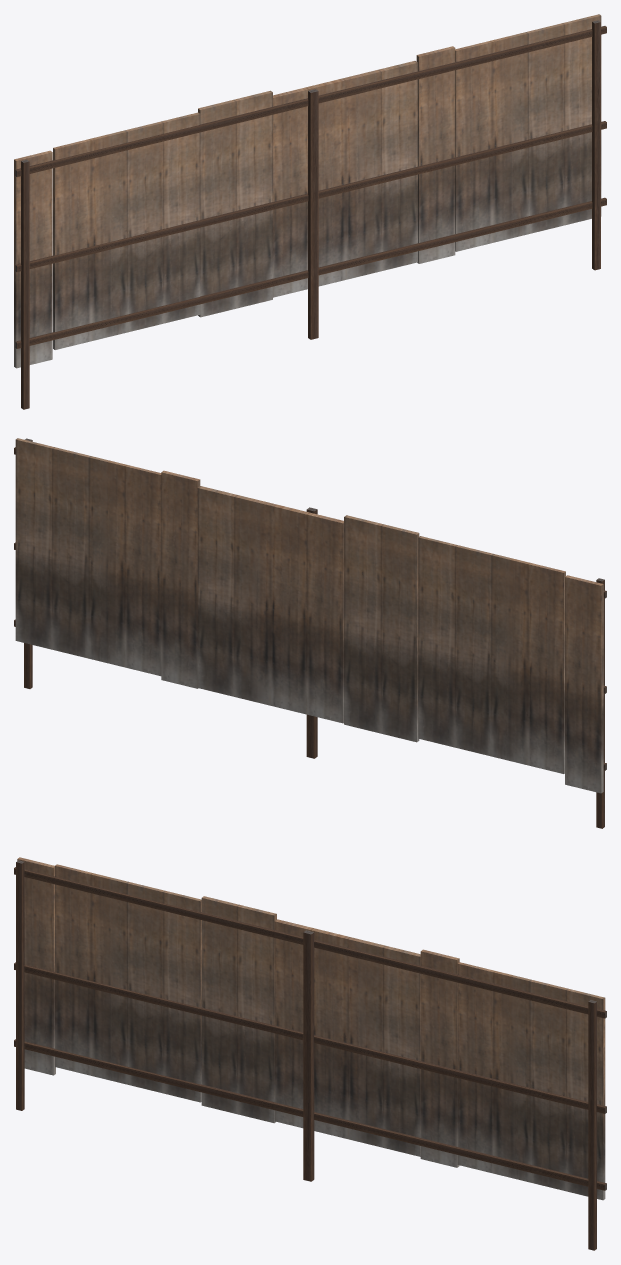
The model's file is fence01b_2t.fbx.
The picture shows the model from 3 angles, top to bottom: view 1: azimuth 30°, elevation 25°; view 2: azimuth 150°, elevation 25°; view 3: azimuth 330°, elevation 25°; orthographic projection.
Visible parts, largest first — view 1: fence01b_2t; view 2: fence01b_2t; view 3: fence01b_2t.
Boxes of the visible parts, x1,y1,x2,y2 form: fence01b_2t: (14,14,606,409); fence01b_2t: (14,438,606,828); fence01b_2t: (14,857,606,1250).
Size of the model in its own units: 445 by 182 by 9.91.
